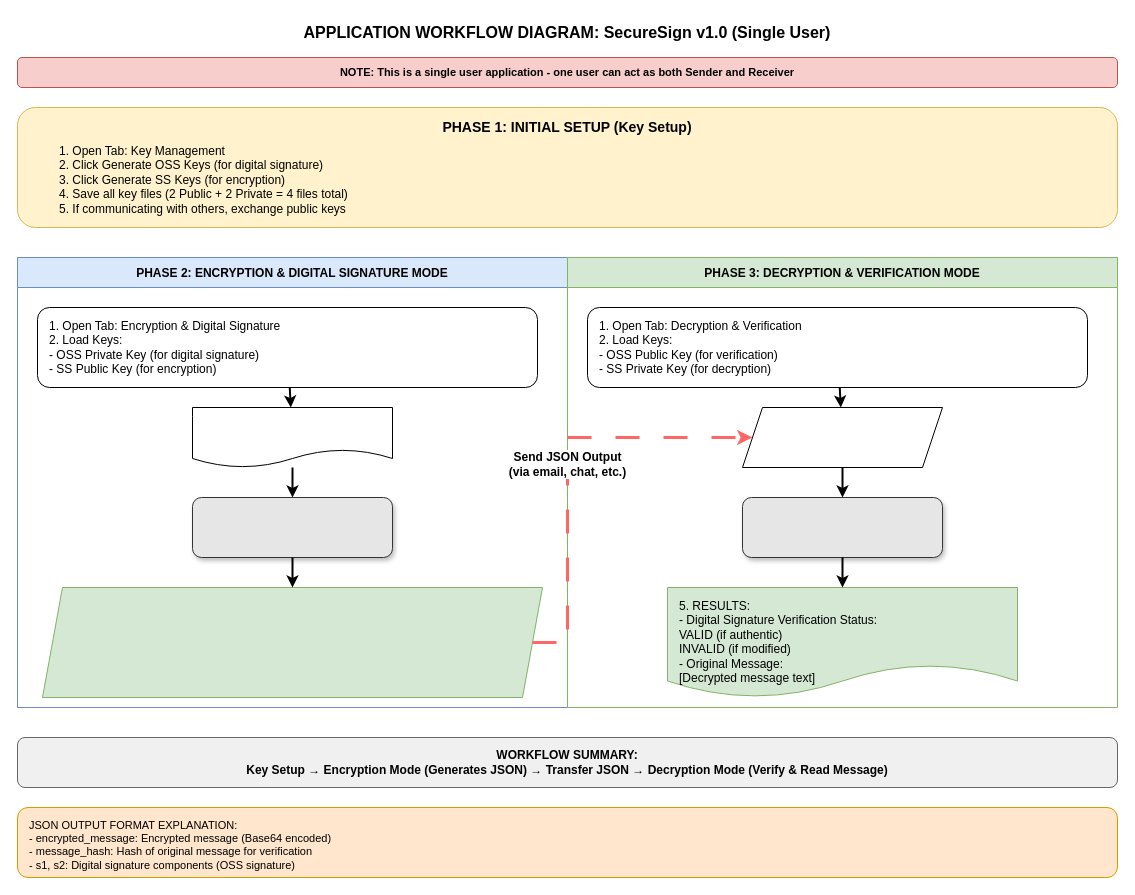
This 1135x895 diagram has some shape labels left out. The shapes that lost their labels are listed below. From the top down, each one's centre as x and y in pixels, then its label:
At [292,437]: "3. Write message in the box Enter Your Message".
At [842,437]: "3. Paste JSON ciphertext in the boxEnter Ciphertext".
At [293,528]: "4. Click Button SIGN & ENCRYPT".
At [843,528]: "4. Click Button DECRYPT & VERIFY".
At [292,642]: "5. JSON OUTPUT: { encrypted_message message_hash s1 s2 } Copy this JSON to send".
